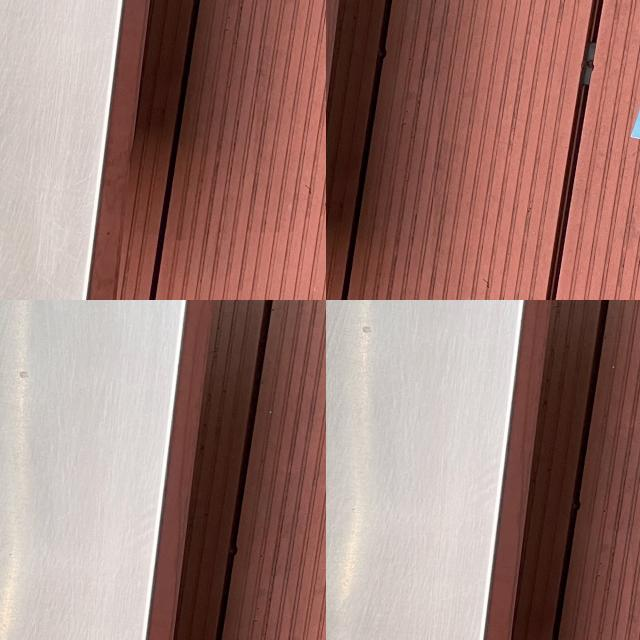Card: (326, 0, 640, 300), (0, 0, 300, 241), (111, 491, 326, 640), (326, 510, 360, 640)
